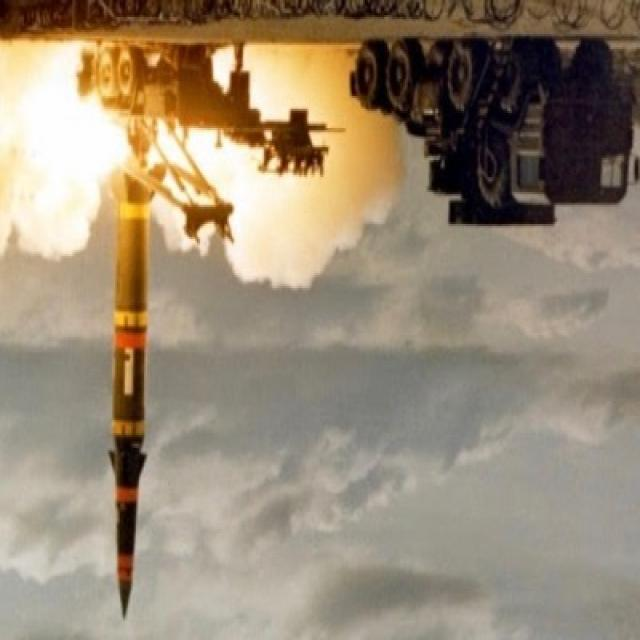missile: (100, 160, 178, 619)
